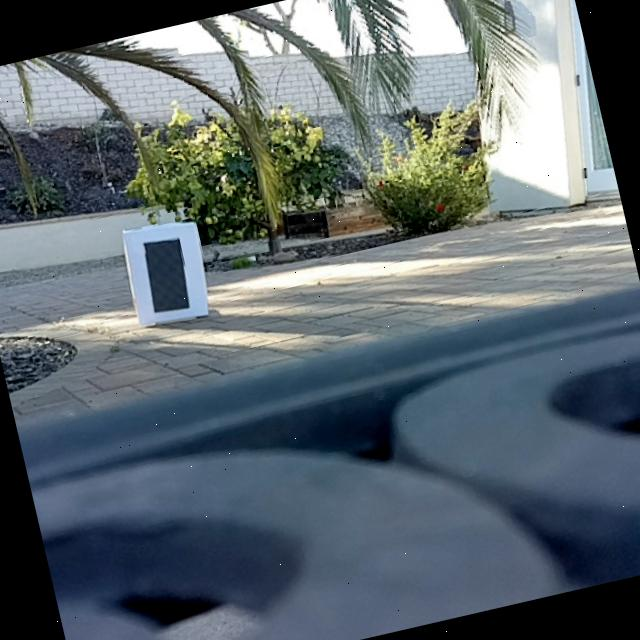led: (138, 232, 195, 318)
